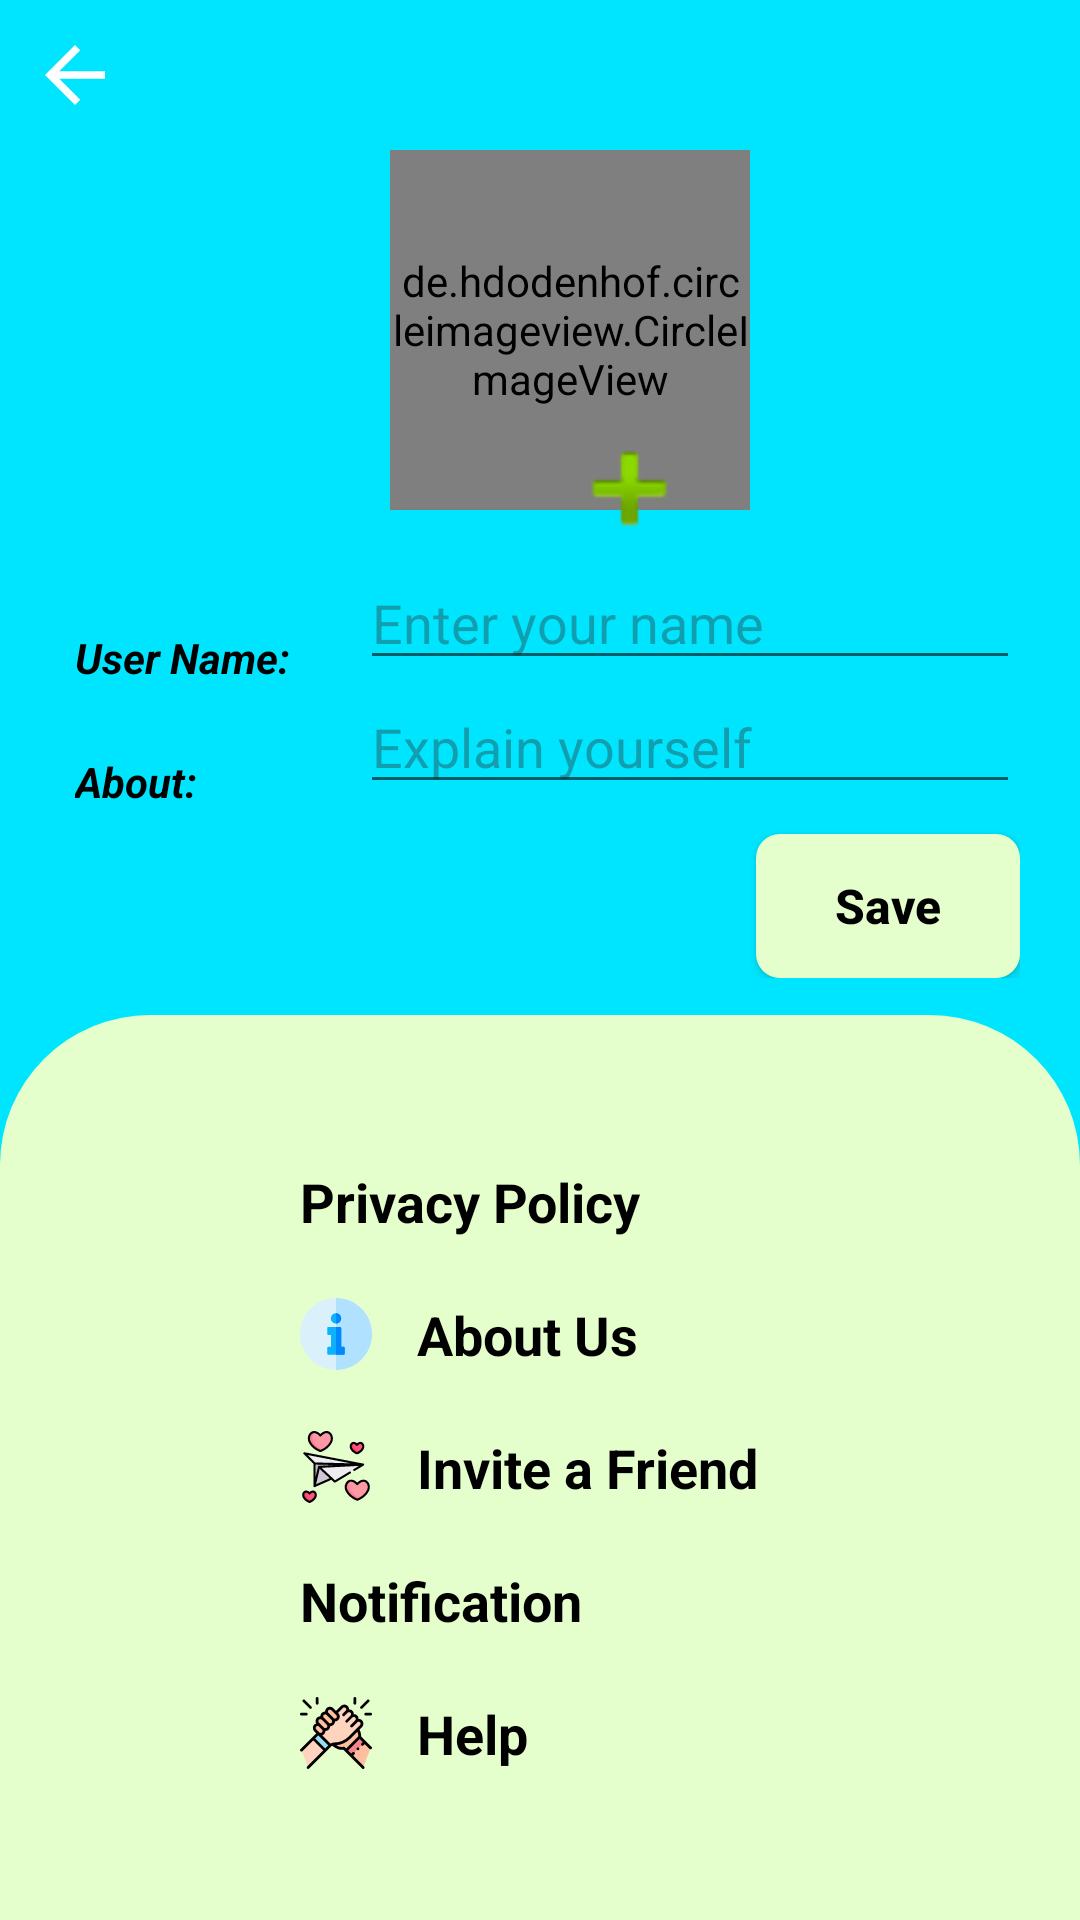

Icon click points for this 1080w x 1920h phone screenshot, format point (x, y):
add: point (629, 488)
